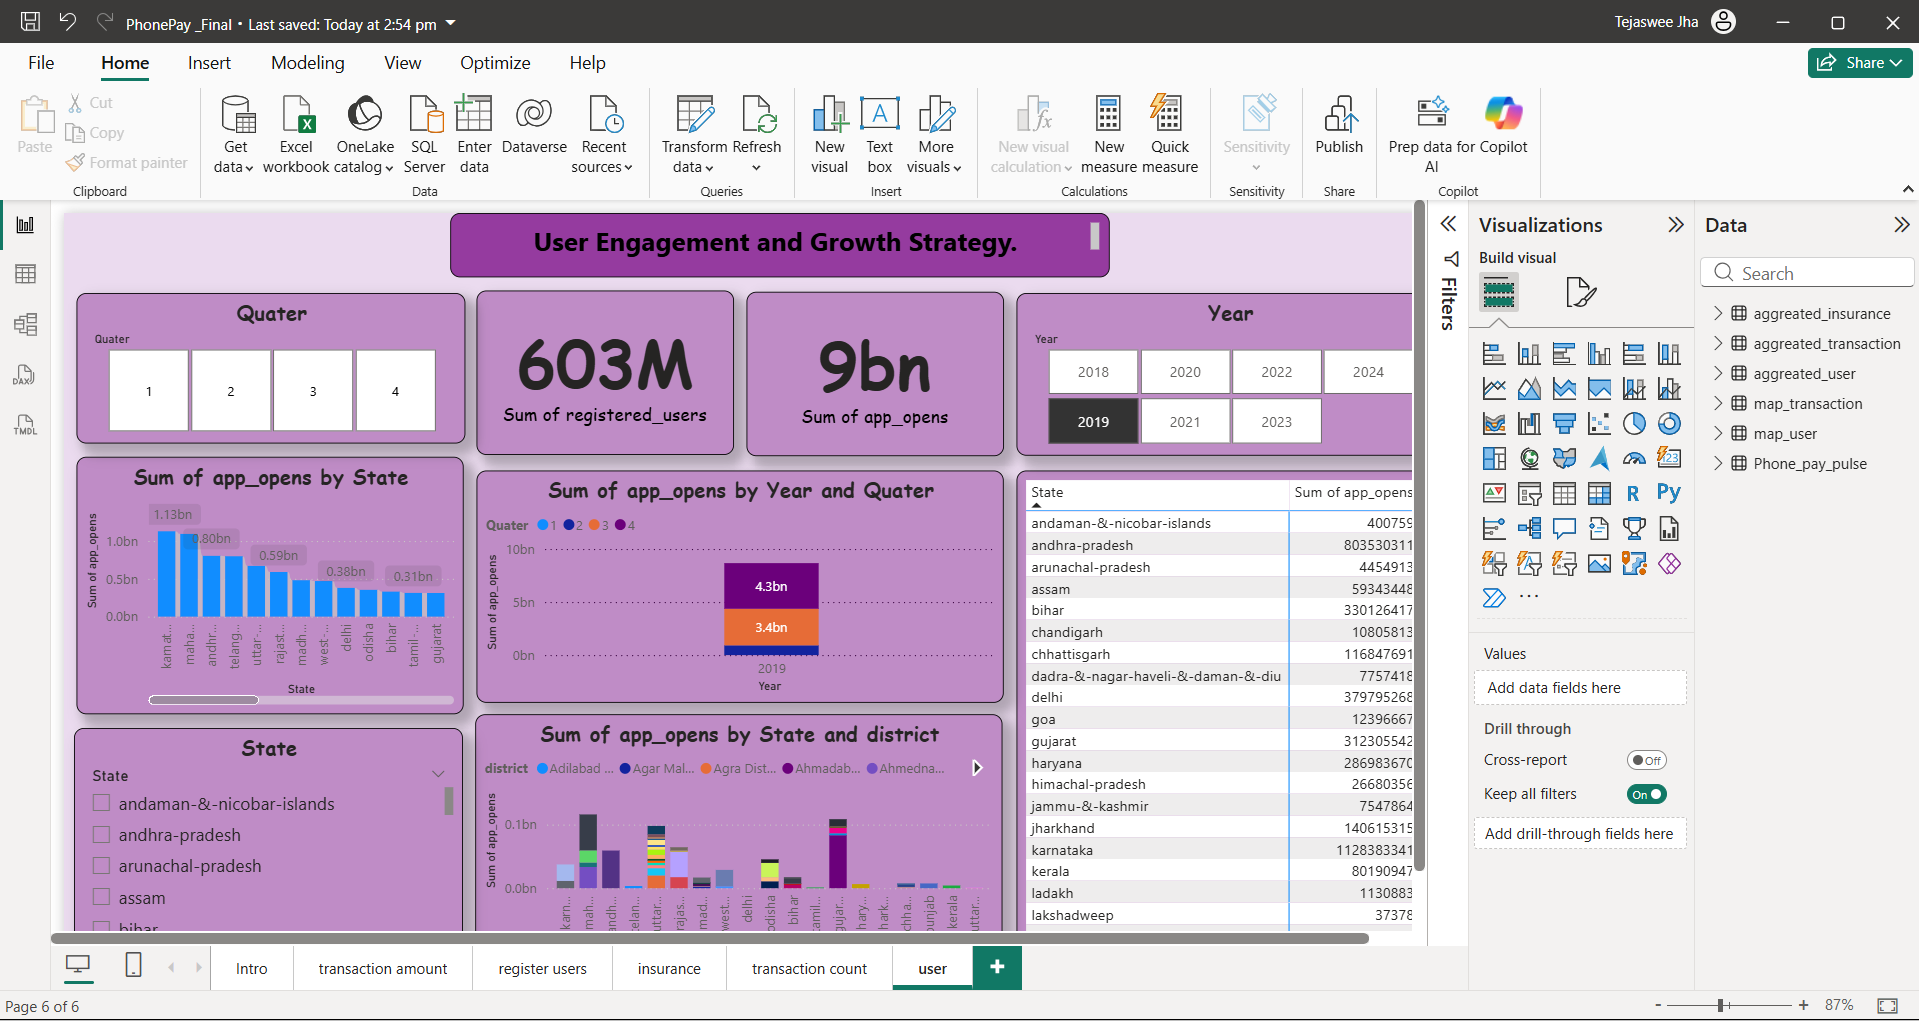

The page's visual inventory and layout, read from the dashboard file:
{"tool":"powerbi","page":{"name":"user ","canvas":[1280,720],"ordinal":5},"visuals":[{"type":"textbox","box":[354.7,0,606,58.9],"z":0},{"type":"card","fields":{"Values":["Sum(map_user.registered_users)"]},"box":[378.8,71.2,236.5,150.8],"z":1000},{"type":"card","fields":{"Values":["Sum(map_user.app_opens)"]},"box":[627.3,72.4,236.5,150.8],"z":2000},{"type":"columnChart","fields":{"Y":["Sum(map_user.app_opens)"],"Category":["map_user.State"]},"box":[11.1,224.3,356.3,237],"z":3000},{"type":"pivotTable","fields":{"Rows":["map_user.State"],"Values":["Sum(map_user.app_opens)"]},"box":[876.4,237,392.9,469.2],"z":4000},{"type":"columnChart","fields":{"Y":["Sum(map_user.app_opens)"],"Category":["map_user.Year"],"Series":["map_user.Quater"]},"box":[378.8,236.2,485,213.8],"z":5000},{"type":"columnChart","fields":{"Category":["map_user.State"],"Series":["map_user.district"],"Y":["Sum(map_user.app_opens)"]},"box":[378.6,461.3,485.1,245],"z":6000},{"type":"slicer","title":"Quater","fields":{"Values":["map_user.Quater"]},"box":[11.1,73.2,357.9,138.4],"z":8000},{"type":"slicer","title":"Year","fields":{"Values":["map_user.Year"]},"box":[876.4,73.2,392.9,149.5],"z":9000},{"type":"slicer","title":"State","fields":{"Values":["map_user.State"]},"box":[9.5,474,357.9,230.6],"z":10000}]}

Visuals, with their boxes on the page's 1280x720 design canvas (x1, y1, x2, y2). These are canvas units, not pixel positions in the 1919x1021 screenshot, which may show the page scaled, cropped or inside an application window:
textbox: x1=355 y1=0 x2=961 y2=59
card - Sum(map_user.registered_users): x1=379 y1=71 x2=615 y2=222
card - Sum(map_user.app_opens): x1=627 y1=72 x2=864 y2=223
columnChart - Sum(map_user.app_opens) x map_user.State: x1=11 y1=224 x2=367 y2=461
pivotTable - map_user.State x Sum(map_user.app_opens): x1=876 y1=237 x2=1269 y2=706
columnChart - Sum(map_user.app_opens) x map_user.Year: x1=379 y1=236 x2=864 y2=450
columnChart - map_user.State x map_user.district: x1=379 y1=461 x2=864 y2=706
"Quater" slicer: x1=11 y1=73 x2=369 y2=212
"Year" slicer: x1=876 y1=73 x2=1269 y2=223
"State" slicer: x1=10 y1=474 x2=367 y2=705
